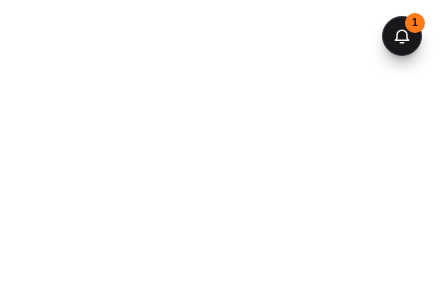
Scenario: campana de notificaciones › muestra el estado de carga y luego la lista completa
What coordinates should you click on to do the following:
click the button named "Notificaciones,"
I would click on:
 (402, 36)
Its box is [382,16,422,56].
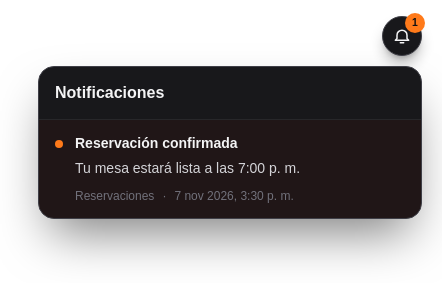
Expected: the element named "Cargando notificaciones" is shown, [39,120,421,218]
Expected: the text "Reservación confirmada" is shown, [75,135,238,151]
Expected: the text "Tu mesa estará lista a las 7:00 p. m." is shown, [75,157,300,180]
